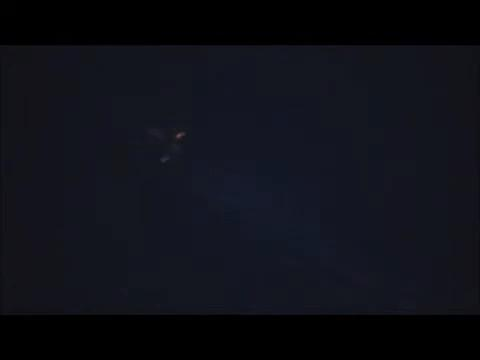Plane: (121, 115, 214, 174)
